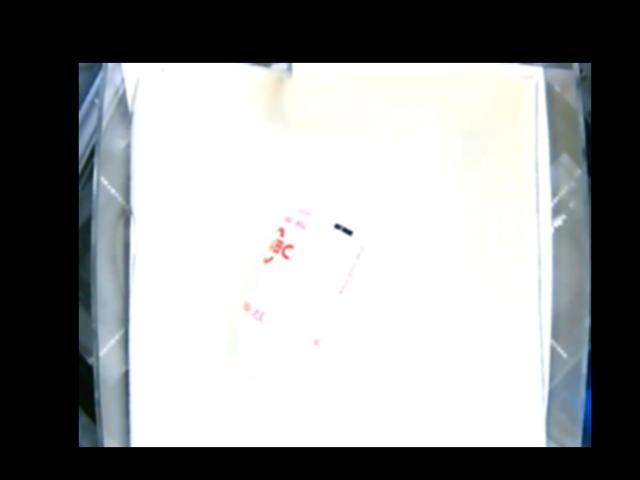Bottle: (233, 200, 366, 384)
